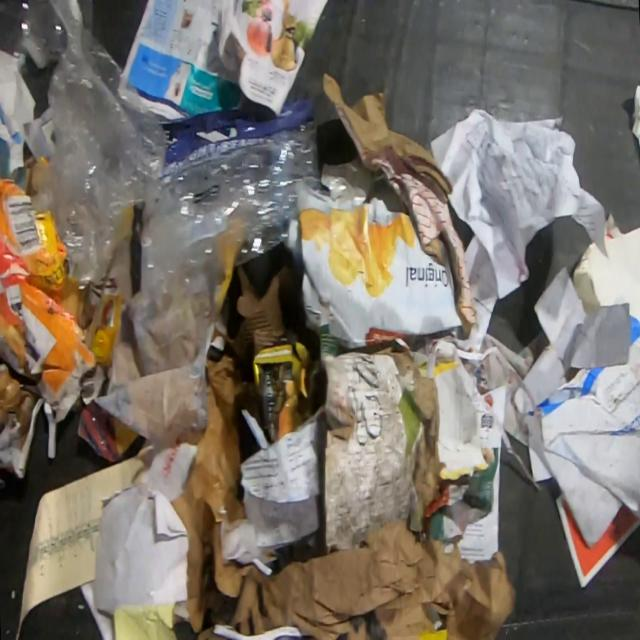cardboard: (321, 70, 479, 336), (0, 177, 125, 423), (319, 344, 449, 555), (221, 264, 319, 369), (318, 152, 373, 206)
rigid_plastic: (0, 0, 67, 72)
soft_plastic: (122, 96, 322, 329), (30, 0, 169, 287)
